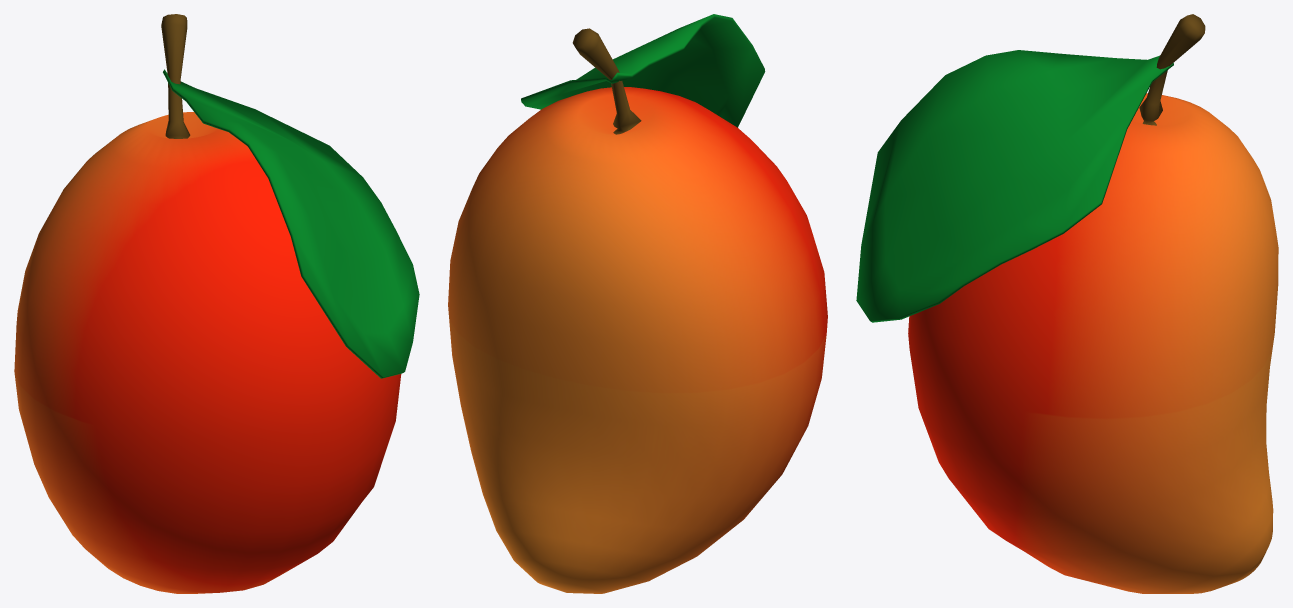
File: Mango.fbx
The picture shows the model from 3 angles, left to right: view 1: azimuth 30°, elevation 25°; view 2: azimuth 150°, elevation 25°; view 3: azimuth 270°, elevation 25°; orthographic projection. The views are drawn at different scales.
Visible parts, largest first — view 1: Mango; view 2: Mango; view 3: Mango.
Boxes of the visible parts, x1,y1,x2,y2 form: Mango: [14, 14, 419, 593]; Mango: [448, 14, 827, 593]; Mango: [856, 14, 1278, 593].
Bounding box in the file's own units: 483 × 756 × 509.
Materials: 1 (1 with a texture image).
